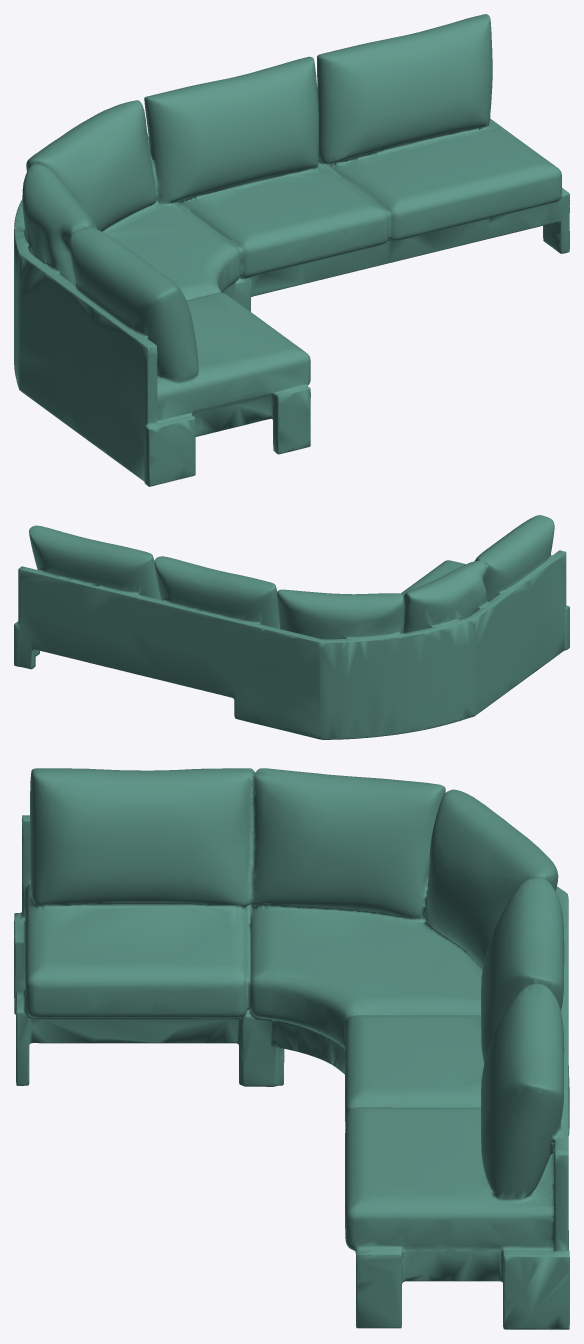
The model's file is sofa.glb.
The picture shows the model from 3 angles, top to bottom: view 1: azimuth 30°, elevation 25°; view 2: azimuth 150°, elevation 25°; view 3: azimuth 270°, elevation 25°; orthographic projection. The views are drawn at different scales.
Visible parts, largest first — view 1: mesh_node; view 2: mesh_node; view 3: mesh_node.
Boxes of the visible parts, bbox=[...] form: mesh_node: bbox=[14, 14, 569, 486]; mesh_node: bbox=[14, 515, 569, 739]; mesh_node: bbox=[14, 768, 569, 1329].
Bounding box in the file's own units: 1.9 × 0.6134 × 1.3.
